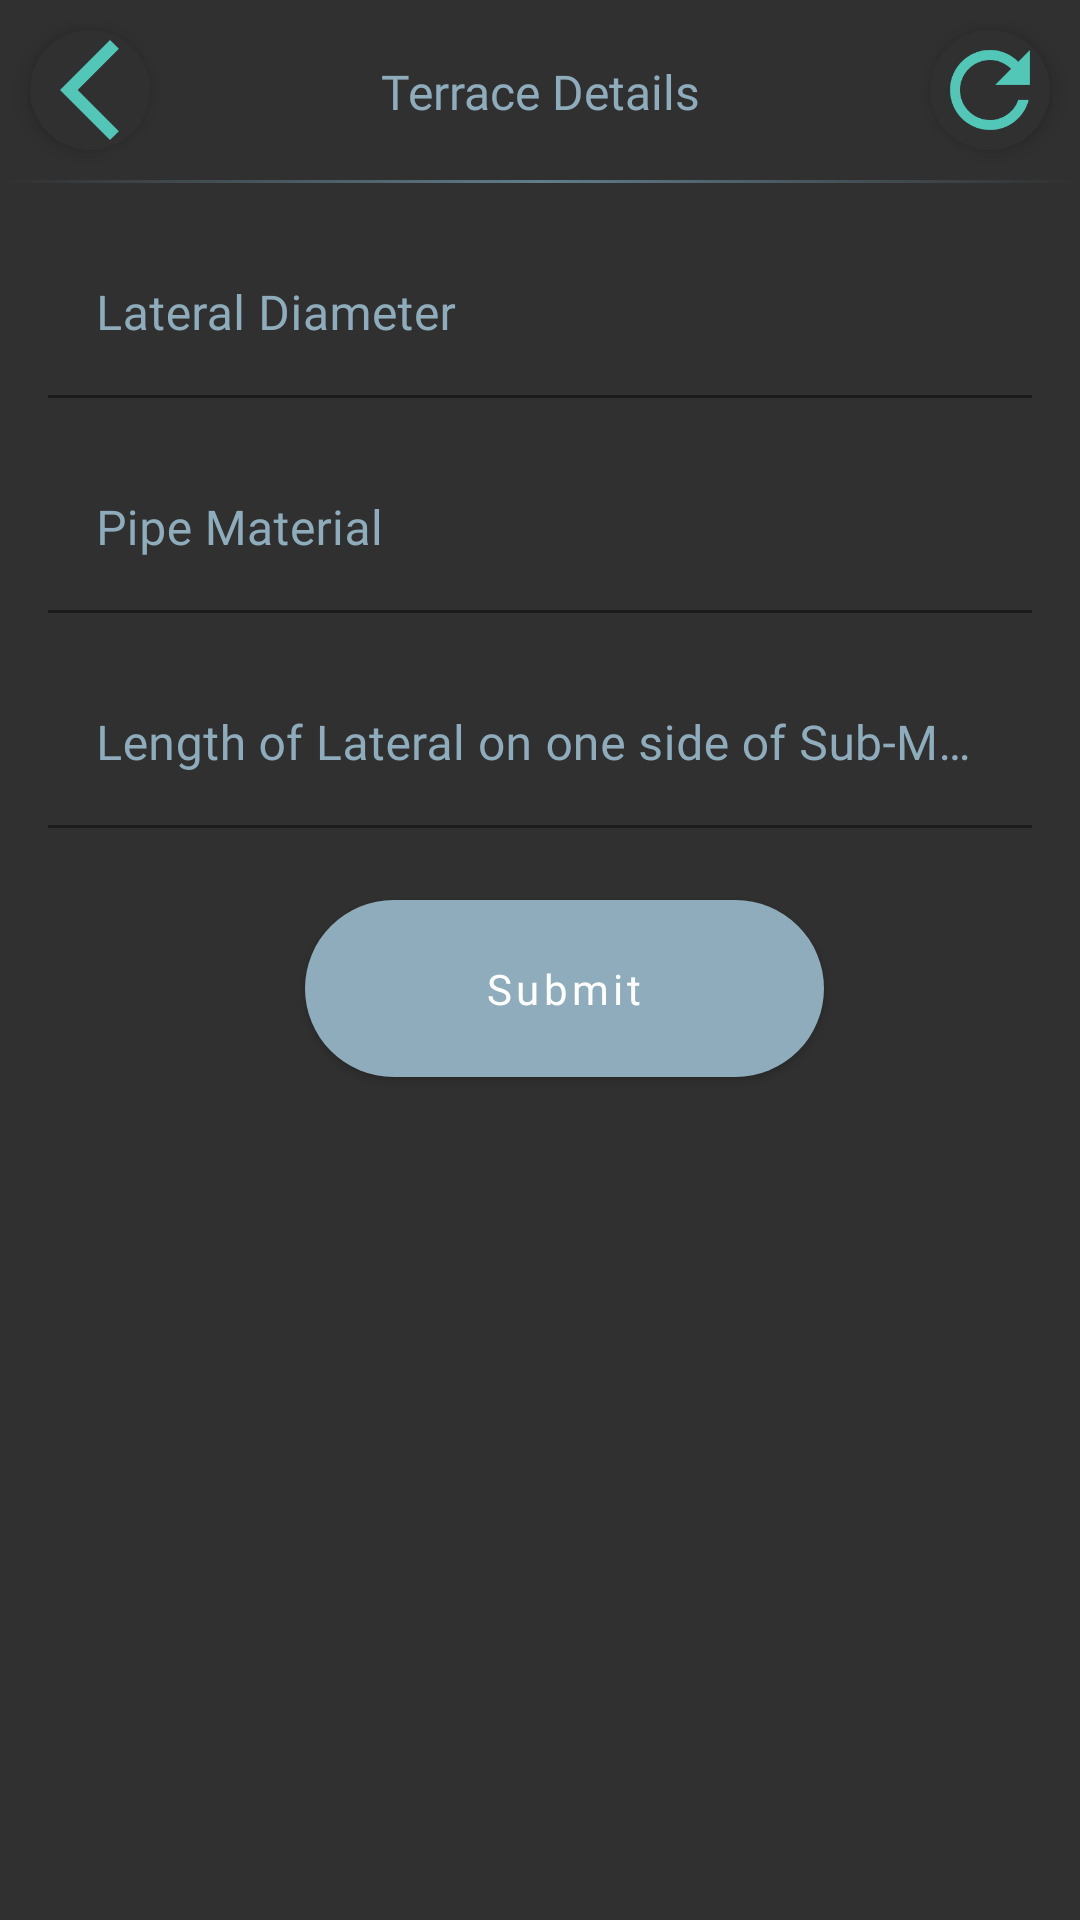

Where to tap for icons on this 1080*1920 app screen, as (x,y):
Back: (89,90)
Reset: (990,90)
